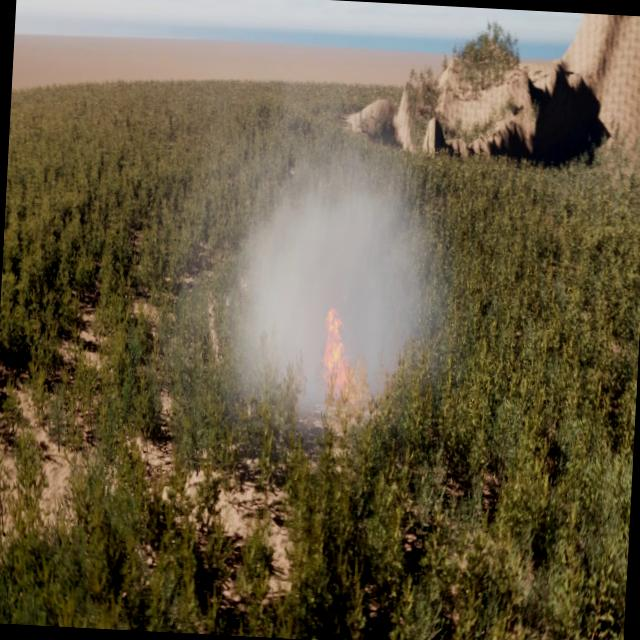fire: (315, 304, 372, 406)
smoke: (190, 120, 467, 450)
